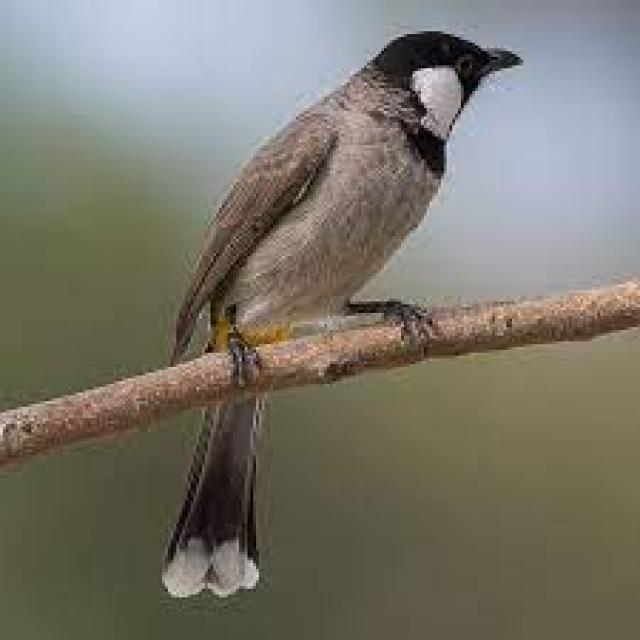bird: (162, 24, 528, 598)
